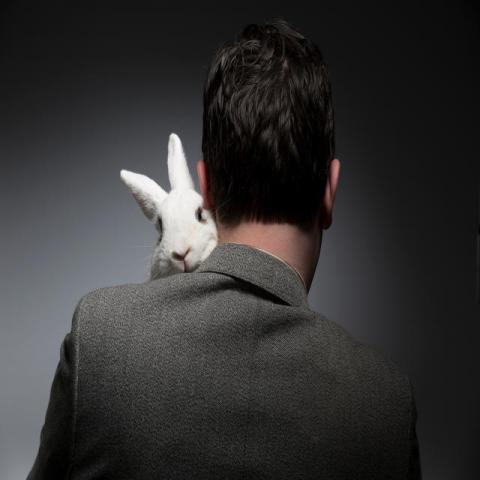small_animal: (118, 131, 220, 281)
